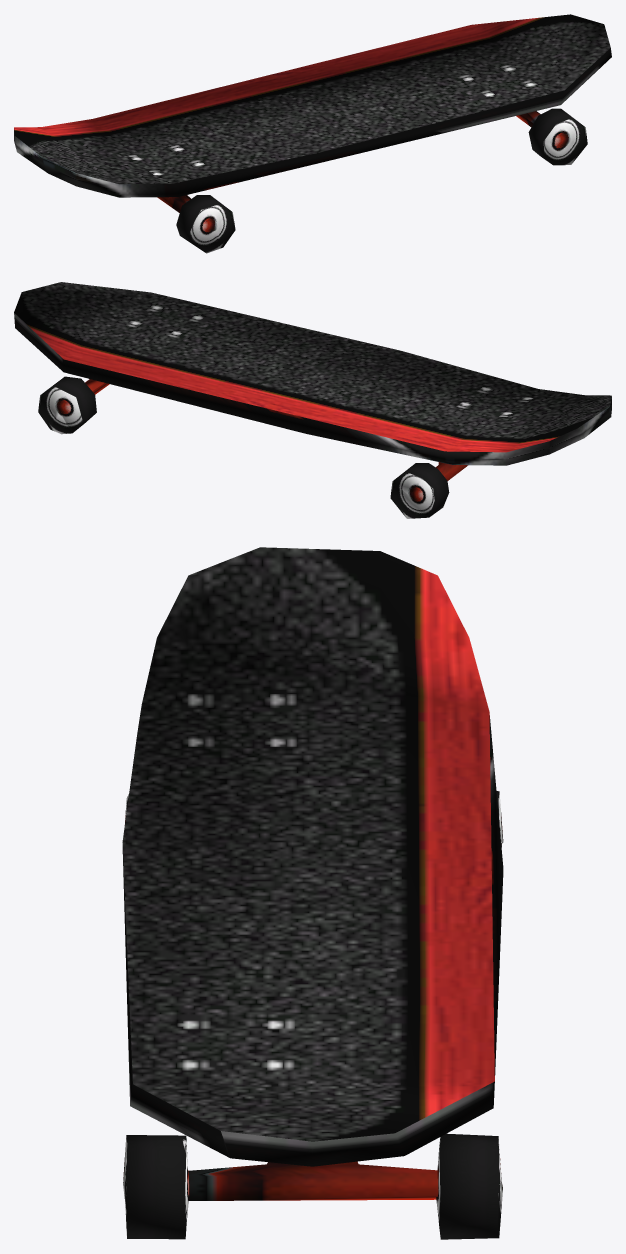
File: Scatebord.fbx
The picture shows the model from 3 angles, top to bottom: view 1: azimuth 30°, elevation 25°; view 2: azimuth 150°, elevation 25°; view 3: azimuth 270°, elevation 25°; orthographic projection. The views are drawn at different scales.
Visible parts, largest first — view 1: 1 pack; view 2: 1 pack; view 3: 1 pack.
Boxes of the visible parts, box(x1,y1,x2,y2) form: 1 pack: box(14, 14, 611, 253); 1 pack: box(14, 282, 611, 518); 1 pack: box(122, 547, 503, 1239).
Bounding box in the file's own units: 547 × 95.15 × 157.
